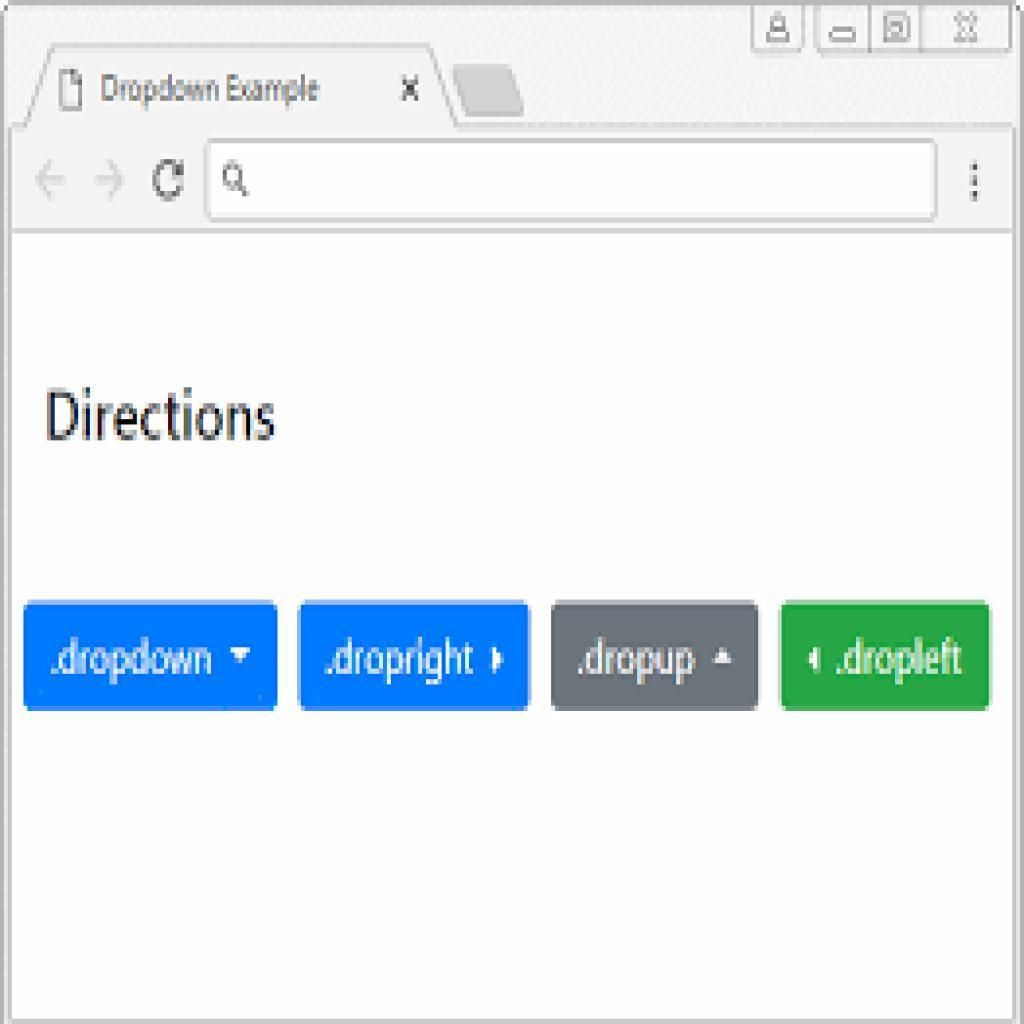dropdown: (26, 605, 277, 710), (302, 603, 530, 710), (782, 603, 993, 713), (555, 605, 760, 713)
